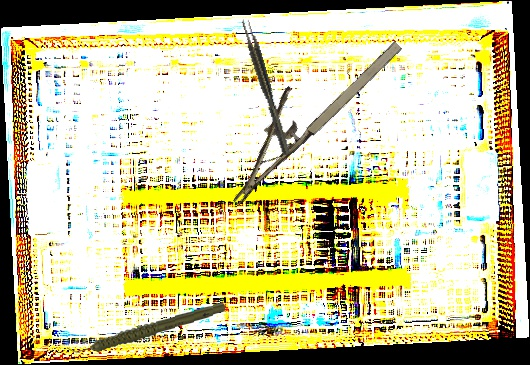Handpiece: (64, 300, 229, 356)
Needle Holder: (200, 12, 408, 207)
Tissue Forceps: (239, 17, 291, 157)
